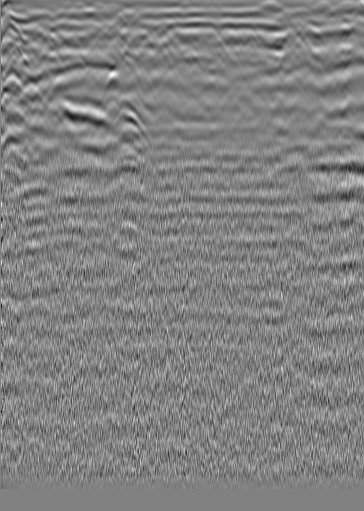가스: (108, 217, 145, 248)
상수: (28, 24, 48, 44)
오수: (303, 25, 323, 45)
우수: (158, 22, 178, 42)
